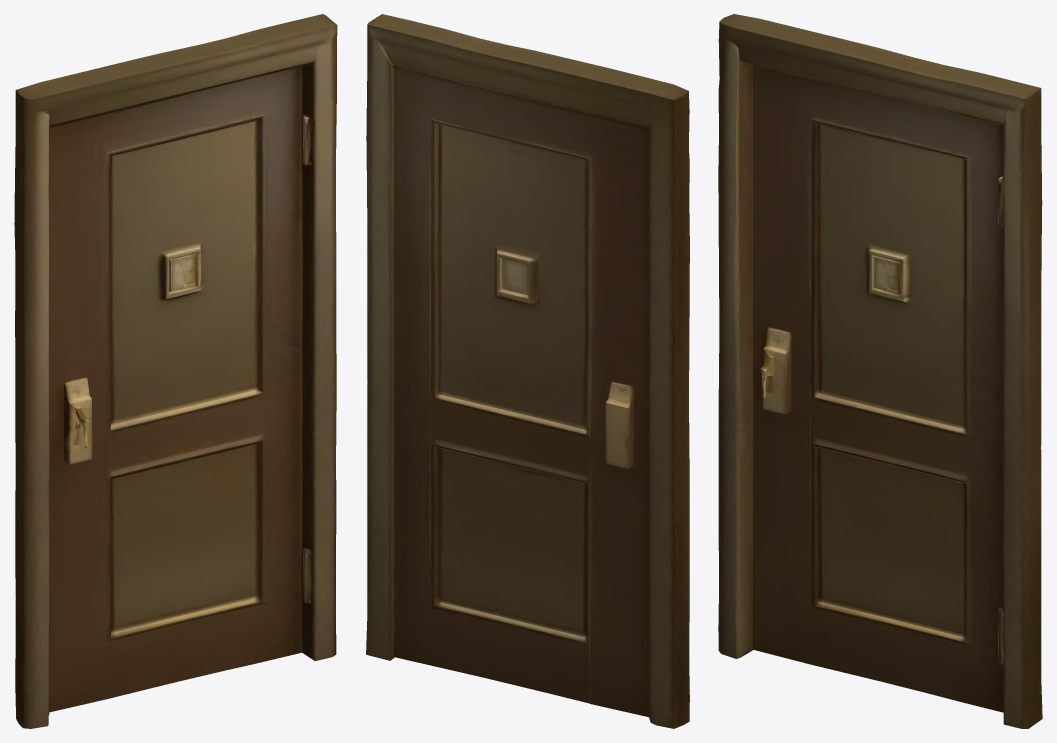
The model's file is hotelRoomDoor.glb.
The picture shows the model from 3 angles, left to right: view 1: azimuth 30°, elevation 25°; view 2: azimuth 150°, elevation 25°; view 3: azimuth 330°, elevation 25°; orthographic projection.
Parts seen in each view (by area): view 1: model; view 2: model; view 3: model.
Part boxes in pixels (box(x1,y1,x2,y2)): model: box(14, 14, 337, 728); model: box(366, 14, 689, 728); model: box(718, 14, 1042, 728).
Size of the model in its own units: 0.9785 by 1.89 by 0.1412.
1 material, 1 textured.
